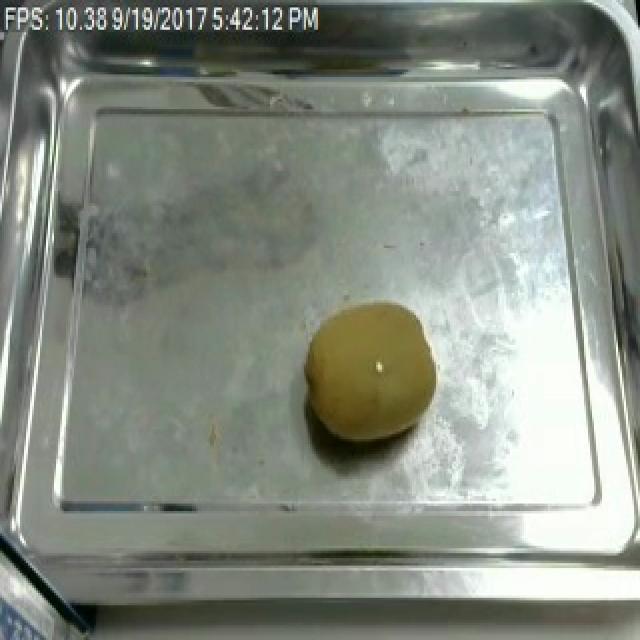Fruit: (298, 293, 446, 452)
